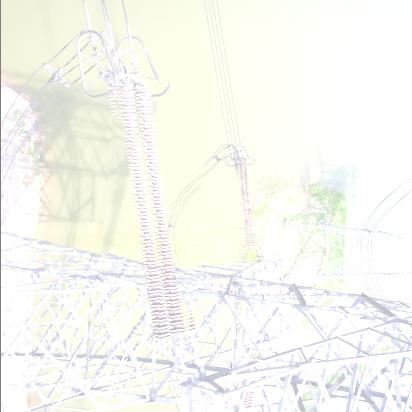insulator: (100, 80, 206, 348), (232, 160, 268, 250)
